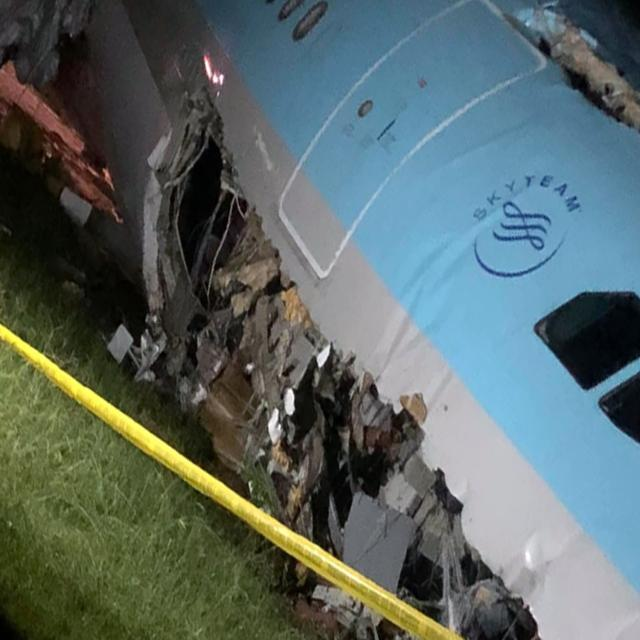crack: (495, 2, 640, 124)
